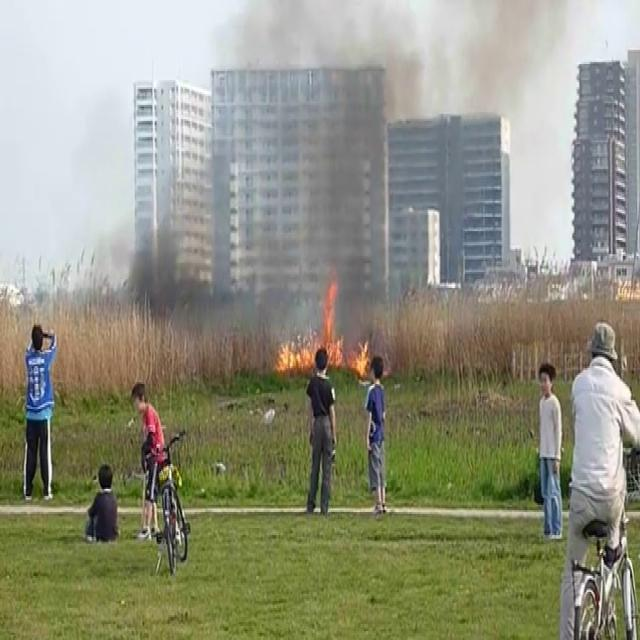Fire: (274, 266, 372, 381)
Smoke: (234, 0, 576, 336), (108, 178, 227, 322)
